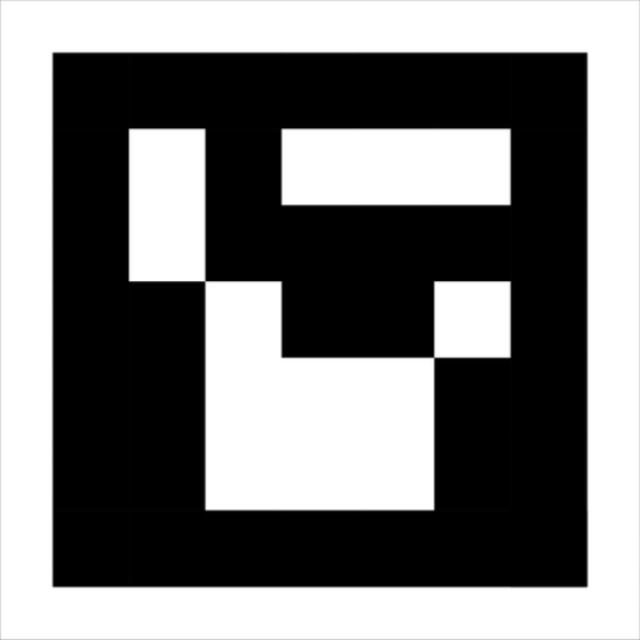aruco: (9, 10, 626, 622)
